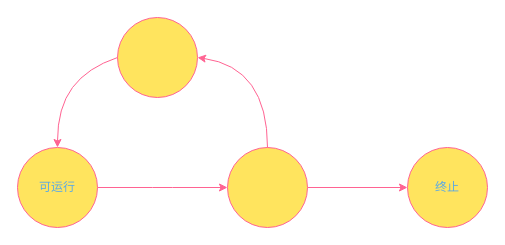
Image size: 505x245. Some labels were removed from this diagram. The shapes that lost their labels are listed below. From the top down, each one's box as (x1, y1, x2, y2) in pixels, then its label:
(116, 16, 198, 98): 阻塞
(226, 146, 308, 228): 运行中
